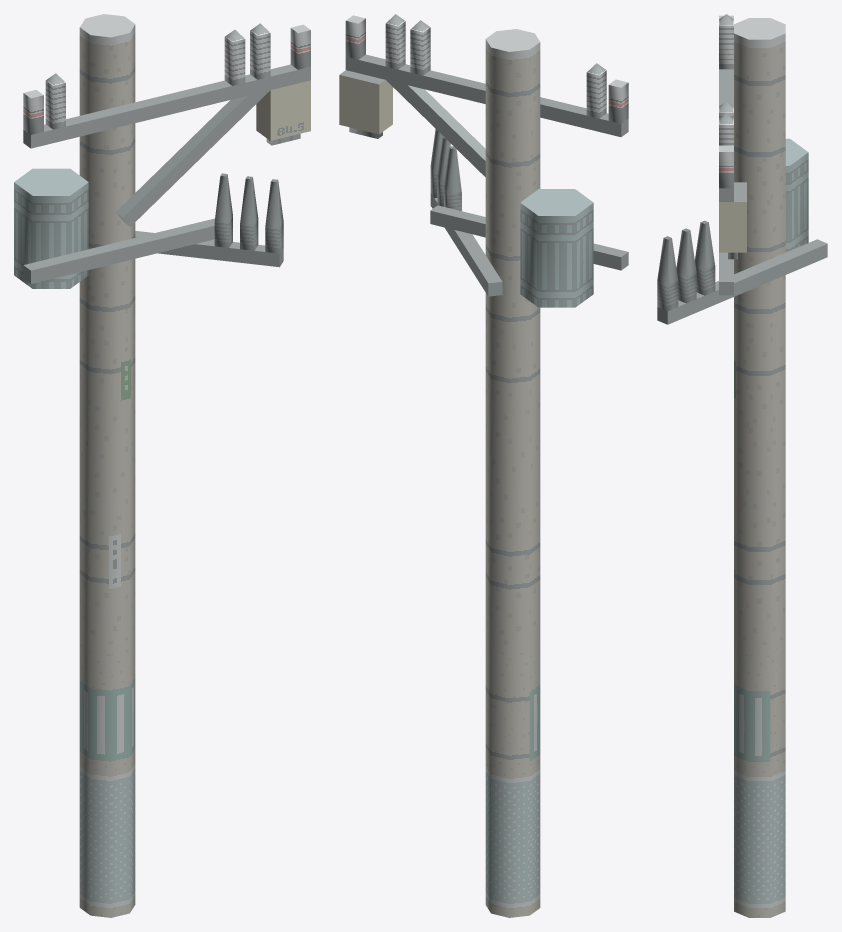
The model's file is 00fd_Telephone_Pole.glb.
The picture shows the model from 3 angles, left to right: view 1: azimuth 30°, elevation 25°; view 2: azimuth 150°, elevation 25°; view 3: azimuth 270°, elevation 25°; orthographic projection.
Visible parts, largest first — view 1: part_0; view 2: part_0; view 3: part_0.
Part boxes in pixels (x1,y1,x2,y2): part_0: (14, 14, 310, 917); part_0: (339, 14, 628, 917); part_0: (657, 14, 827, 917).
Bounding box in the file's own units: 1.73 × 5.2 × 0.915.
Materials: 1 (1 with a texture image).
